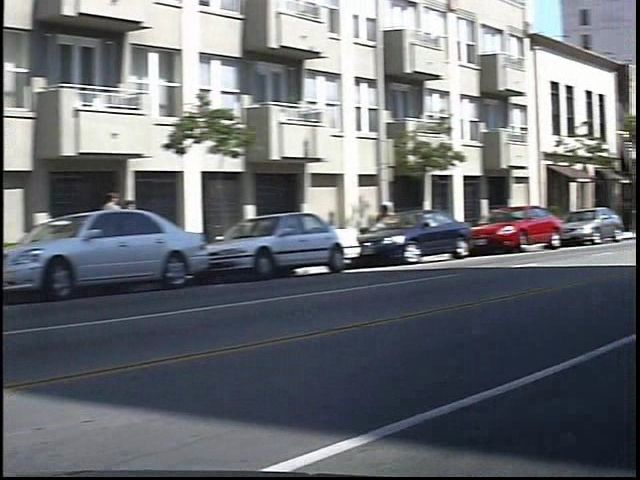person: (116, 184, 140, 264), (136, 195, 158, 259)
